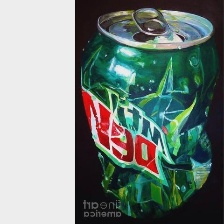can: (72, 2, 223, 221)
